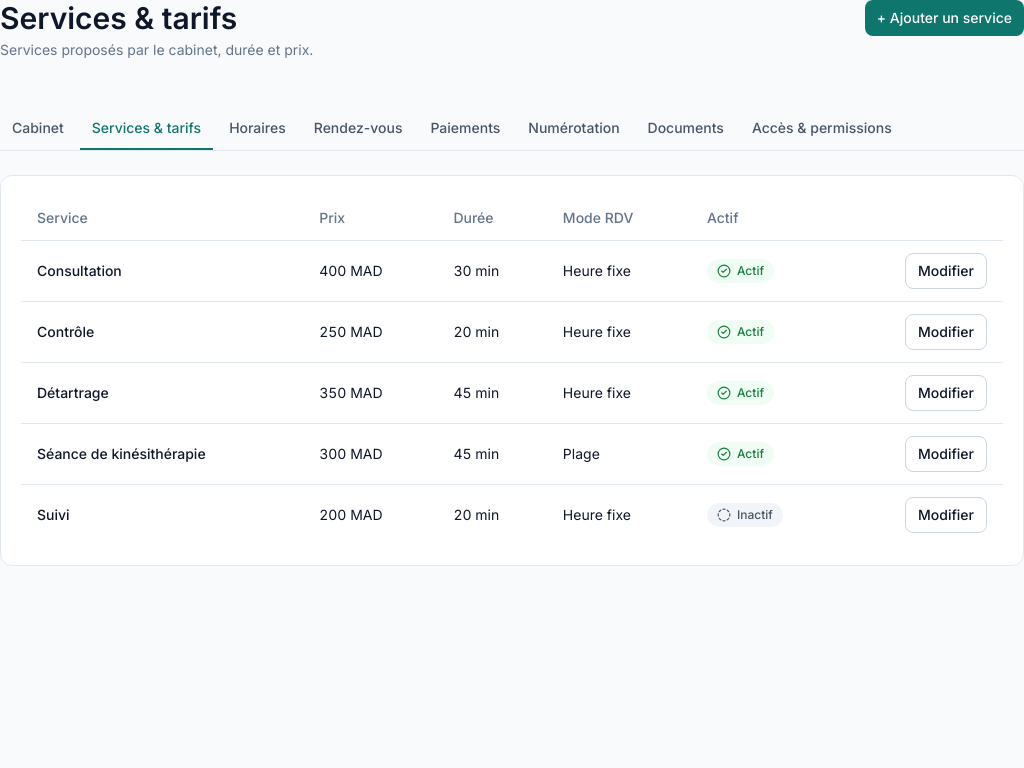
ServicesPage › Ajouter un service opens the add dialog with blank fields
Click the button "+ Ajouter un service". click: x=944, y=18
box: [865,0,1023,36]
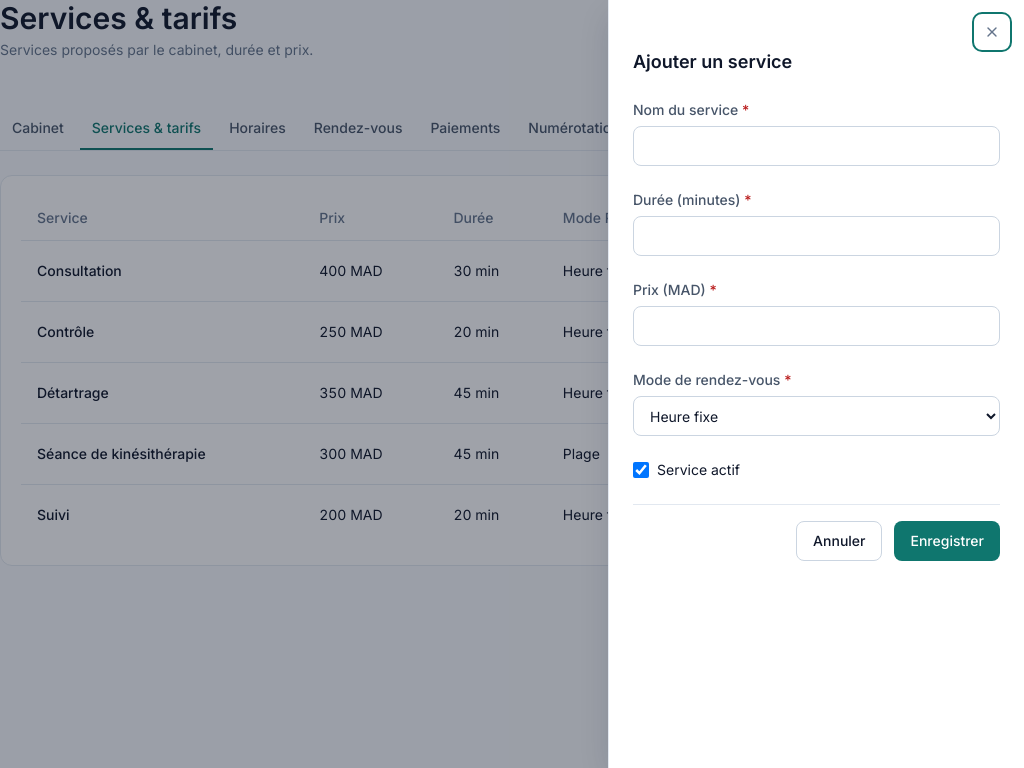
Now the heading "Ajouter un service" is shown, box [633,51,792,72]
Now the field labelled "Nom du service *" is empty, box [633,126,1000,166]
